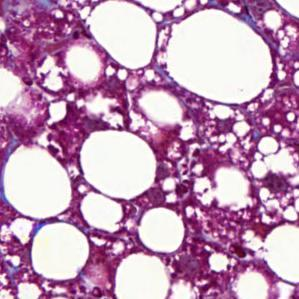steatosis: (78, 129, 157, 200), (4, 150, 74, 217), (29, 223, 90, 284), (139, 207, 187, 255)
